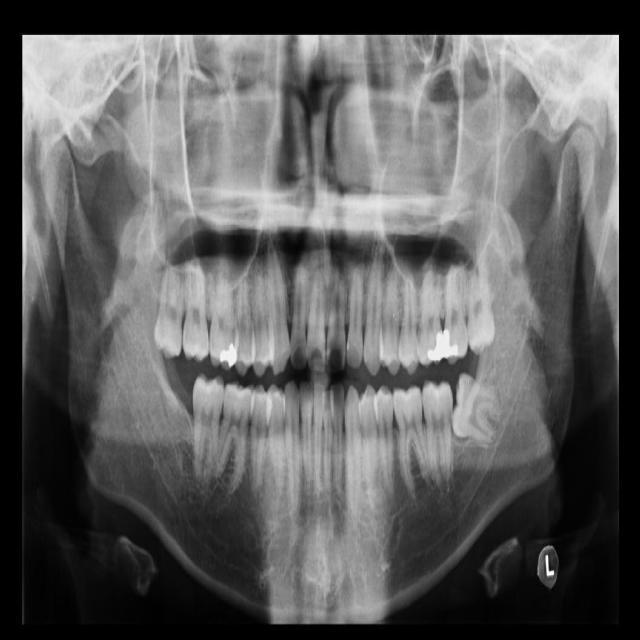3M ESPE Implant: (153, 248, 185, 360)
52: (208, 319, 239, 372), (416, 325, 445, 369), (441, 325, 469, 365)
73: (595, 546, 605, 569)
BioHorizons Implant: (440, 253, 469, 366)
BioLife Implant: (465, 252, 500, 356)
Biomet 3i Implant: (449, 371, 504, 445)
Blue Sky Bio Implant: (421, 379, 455, 483)
Caries: (178, 247, 210, 362)
Implant: (185, 373, 226, 481)
